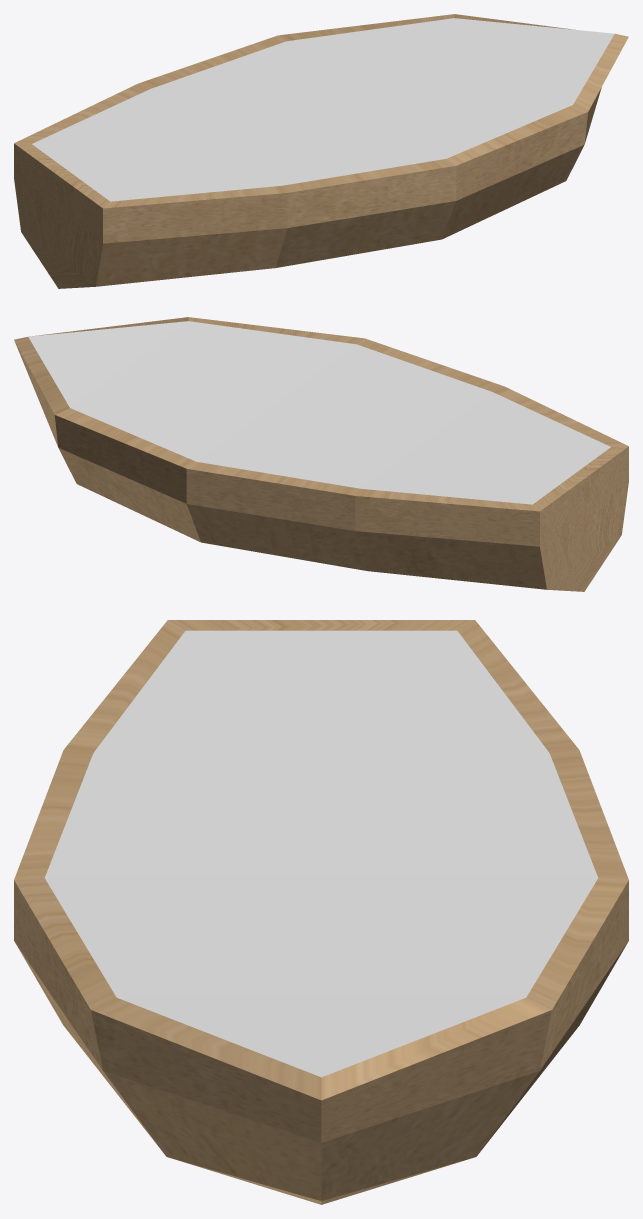
File: boat.glb
3 renders of one model, top to bottom at view 1: azimuth 30°, elevation 25°; view 2: azimuth 150°, elevation 25°; view 3: azimuth 270°, elevation 25°, orthographic. The views are drawn at different scales.
Visible parts, largest first — view 1: Cube.001, Cube; view 2: Cube.001, Cube; view 3: Cube.001, Cube.
Boxes of the visible parts, <box> form: Cube.001: <box>32,18,614,201</box>; Cube: <box>14,14,628,288</box>; Cube.001: <box>28,321,610,504</box>; Cube: <box>14,317,628,591</box>; Cube.001: <box>45,630,597,1077</box>; Cube: <box>14,620,628,1204</box>.
Size of the model in its own units: 3.7 by 0.74 by 2.
1 material, 1 textured.
